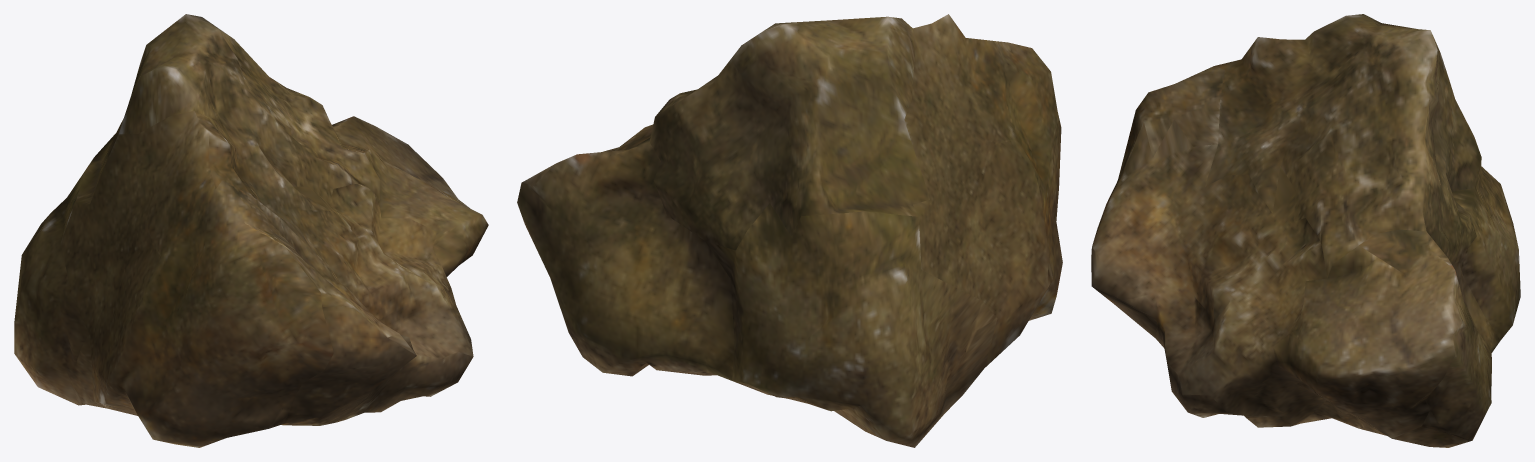
Rendered from pine_rock_d.glb.
3 renders of one model, left to right at view 1: azimuth 30°, elevation 25°; view 2: azimuth 150°, elevation 25°; view 3: azimuth 270°, elevation 25°, orthographic. The views are drawn at different scales.
Parts seen in each view (by area): view 1: pine_rock_d; view 2: pine_rock_d; view 3: pine_rock_d.
Boxes of the visible parts, <box> form: pine_rock_d: <box>14,14,488,447</box>; pine_rock_d: <box>517,14,1062,447</box>; pine_rock_d: <box>1091,14,1520,447</box>.
Size of the model in its own units: 1.08 by 0.8921 by 0.9921.
1 material, 1 textured.
